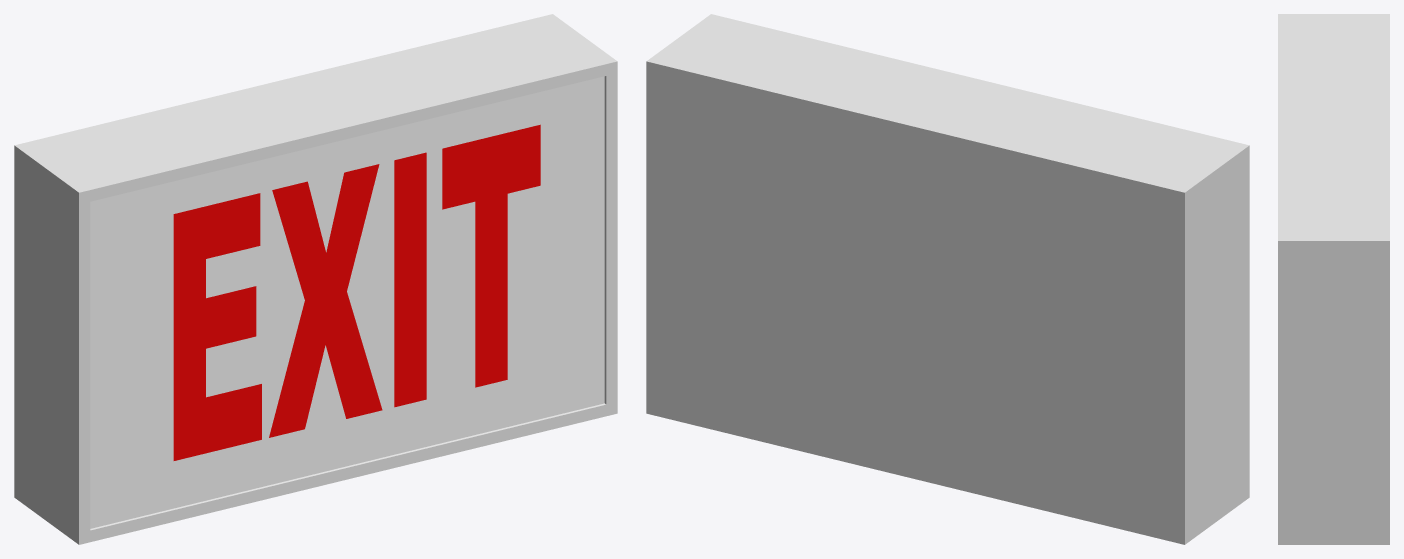
Rendered from exitsign.dae.
The picture shows the model from 3 angles, left to right: view 1: azimuth 30°, elevation 25°; view 2: azimuth 150°, elevation 25°; view 3: azimuth 270°, elevation 25°; orthographic projection. The views are drawn at different scales.
Visible parts, largest first — view 1: SketchUp (×3), EXIT (×4); view 2: SketchUp; view 3: SketchUp.
Part boxes in pixels (x1,y1,x2,y2): SketchUp (×3): [14, 14, 617, 544]; EXIT (×4): [173, 124, 540, 460]; SketchUp: [646, 14, 1249, 544]; SketchUp: [1278, 14, 1389, 544].
Size of the model in its own units: 12 by 2.5 by 7.5.
